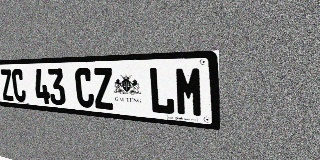3: (47, 68, 66, 106)
4: (33, 69, 50, 104)
C: (74, 68, 95, 108), (11, 69, 27, 102)
L: (148, 67, 175, 115)
M: (174, 66, 204, 118)
Z: (92, 68, 114, 110), (0, 69, 14, 101)
